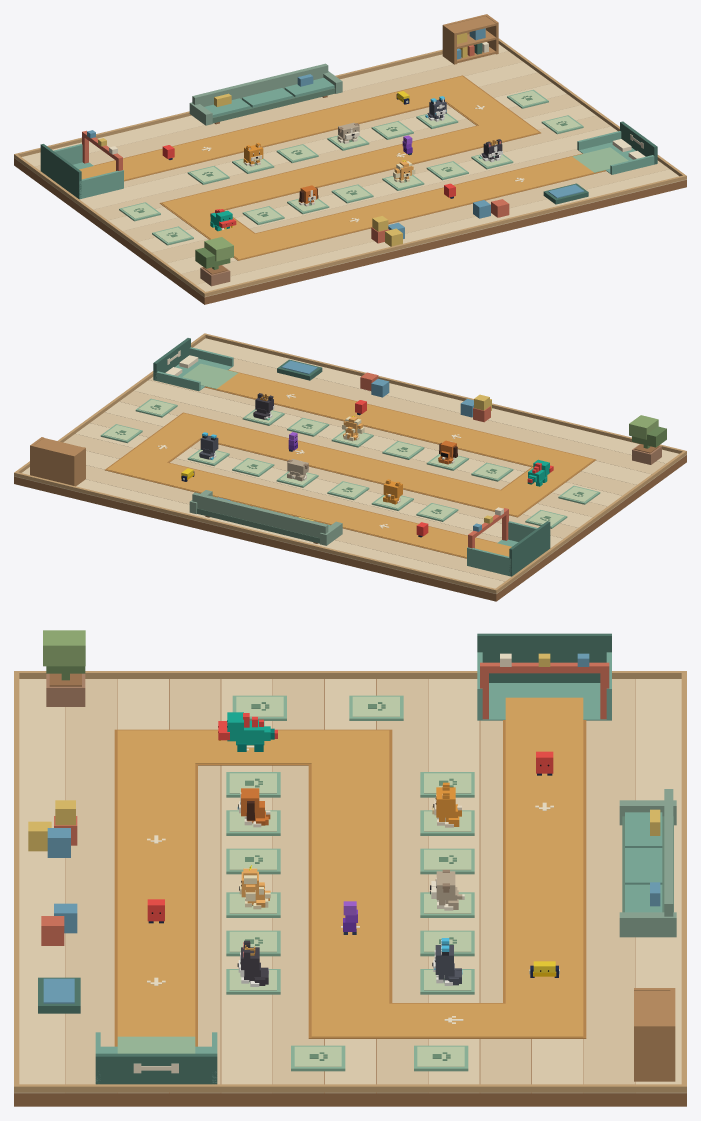
The model's file is Pupsters_Block_Playroom_Showcase.glb.
The picture shows the model from 3 angles, top to bottom: view 1: azimuth 30°, elevation 25°; view 2: azimuth 150°, elevation 25°; view 3: azimuth 270°, elevation 25°; orthographic projection. The views are drawn at different scales.
Parts seen in each view (by area): view 1: Road06, Road07, Road05, FloorPlank01, MapBase, FloorPlank11, FloorPlank12, FloorPlank05, FloorPlank08, FloorPlank07, FloorPlank04, FloorPlank00 (+31 smaller); view 2: Road05, Road06, Road07, FloorPlank11, MapBase, FloorPlank12, FloorPlank07, FloorPlank00, FloorPlank08, FloorPlank01, FloorPlank05, FloorPlank04 (+31 smaller); view 3: Road06, Road07, Road05, FloorPlank11, FloorPlank01, FloorPlank12, FloorPlank05, FloorPlank07, MapBase, FloorPlank04, FloorPlank08, FloorPlank00 (+50 smaller).
Boxes of the visible parts, x1,y1,x2,y2 form: Road06: (200,125,497,209); Road07: (255,166,555,250); Road05: (145,85,445,169); FloorPlank01: (28,51,522,178); MapBase: (14,158,686,304); FloorPlank11: (175,160,669,286); FloorPlank12: (190,169,686,297); FloorPlank05: (87,94,581,221); FloorPlank08: (131,126,617,254); FloorPlank07: (117,115,610,243); FloorPlank04: (73,83,566,211); FloorPlank00: (14,44,508,168); Road05: (145,462,445,546); Road06: (200,422,500,506); Road07: (255,382,555,466); FloorPlank11: (229,358,672,475); MapBase: (14,455,686,601); FloorPlank12: (193,338,686,465); FloorPlank07: (119,391,613,518); FloorPlank00: (14,467,510,594); FloorPlank08: (134,380,628,507); FloorPlank01: (86,465,525,583); FloorPlank05: (90,412,583,540); FloorPlank04: (75,423,569,550); Road06: (311,763,389,1003); Road07: (117,763,195,1003); Road05: (505,763,583,1003); FloorPlank11: (66,679,117,1093); FloorPlank01: (583,679,634,1093); FloorPlank12: (14,679,65,1093); FloorPlank05: (376,679,427,1093); FloorPlank07: (273,679,324,1093); MapBase: (14,679,686,1106); FloorPlank04: (428,679,479,1093); FloorPlank08: (221,679,272,1093); FloorPlank00: (635,679,686,1093).
Bounding box in the file's own units: 76 × 6.63 × 52.
